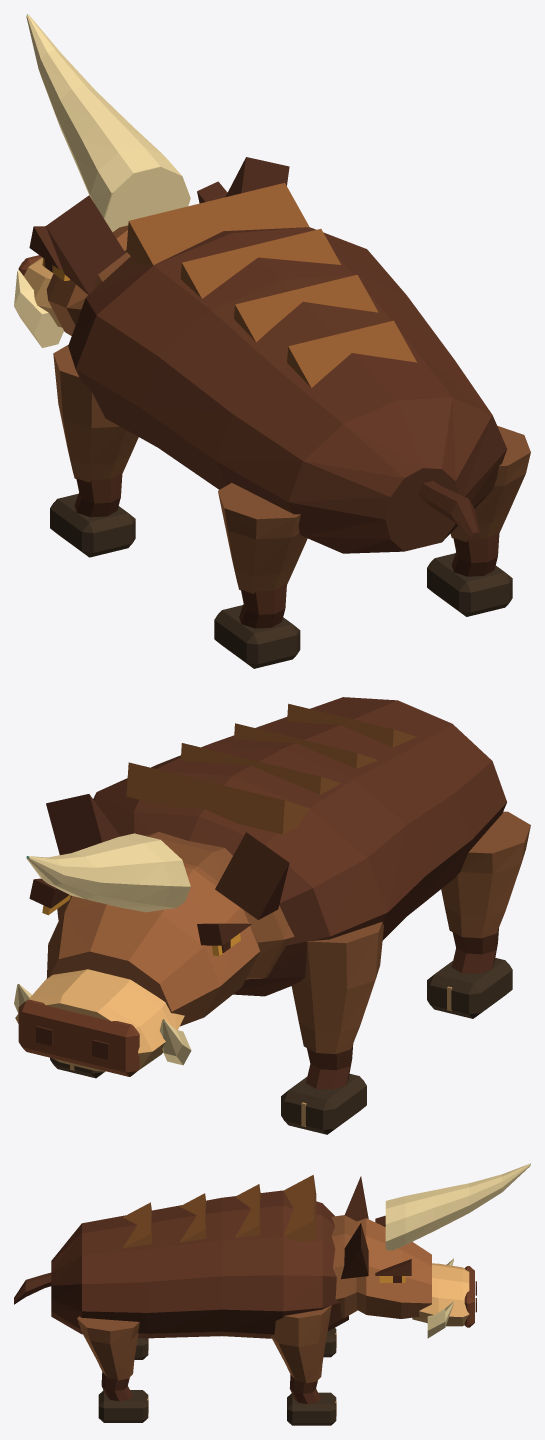
Rendered from MON_Hornboar_V1_Studio_Rigid.fbx.
3 renders of one model, top to bottom at view 1: azimuth 30°, elevation 25°; view 2: azimuth 150°, elevation 25°; view 3: azimuth 270°, elevation 25°, orthographic. The views are drawn at different scales.
Parts seen in each view (by area): view 1: Torso, Head, Horn_Intact, BackLeg_L_Upper, FrontLeg_L_Upper, BackShin_L_Lower, FrontShin_L_Lower, BackShin_R_Lower, Horn_Broken, BackLeg_R_Upper, Tail; view 2: Torso, Head, Horn_Intact, FrontLeg_L_Upper, BackLeg_L_Upper, BackShin_L_Lower, FrontShin_L_Lower, NeckMass; view 3: Torso, Head, Horn_Intact, FrontLeg_R_Upper, BackLeg_R_Upper, BackShin_R_Lower, FrontShin_R_Lower, NeckMass, Tail.
Part boxes in pixels (x1=…): Torso: x1=68, y1=183, x2=506, y2=553; Head: x1=14, y1=157, x2=289, y2=347; Horn_Intact: x1=26, y1=14, x2=190, y2=218; BackLeg_L_Upper: x1=218, y1=483, x2=307, y2=593; FrontLeg_L_Upper: x1=53, y1=344, x2=138, y2=482; BackShin_L_Lower: x1=214, y1=584, x2=300, y2=668; FrontShin_L_Lower: x1=50, y1=473, x2=135, y2=557; BackShin_R_Lower: x1=427, y1=532, x2=512, y2=616; Horn_Broken: x1=104, y1=166, x2=190, y2=232; BackLeg_R_Upper: x1=450, y1=426, x2=530, y2=541; Tail: x1=418, y1=481, x2=480, y2=542; Torso: x1=93, y1=697, x2=506, y2=996; Head: x1=14, y1=794, x2=289, y2=1076; Horn_Intact: x1=26, y1=833, x2=190, y2=912; FrontLeg_L_Upper: x1=291, y1=921, x2=383, y2=1053; BackLeg_L_Upper: x1=441, y1=811, x2=530, y2=938; BackShin_L_Lower: x1=427, y1=928, x2=512, y2=1018; FrontShin_L_Lower: x1=281, y1=1044, x2=366, y2=1134; NeckMass: x1=144, y1=832, x2=294, y2=979; Torso: x1=51, y1=1175, x2=348, y2=1338; Head: x1=341, y1=1176, x2=476, y2=1338; Horn_Intact: x1=386, y1=1163, x2=530, y2=1250; FrontLeg_R_Upper: x1=271, y1=1305, x2=331, y2=1383; BackLeg_R_Upper: x1=77, y1=1316, x2=139, y2=1380; BackShin_R_Lower: x1=98, y1=1372, x2=148, y2=1422; FrontShin_R_Lower: x1=287, y1=1374, x2=336, y2=1425; NeckMass: x1=331, y1=1215, x2=357, y2=1318; Tail: x1=14, y1=1272, x2=51, y2=1304.
Size of the model in its own units: 510 by 560 by 1181.
